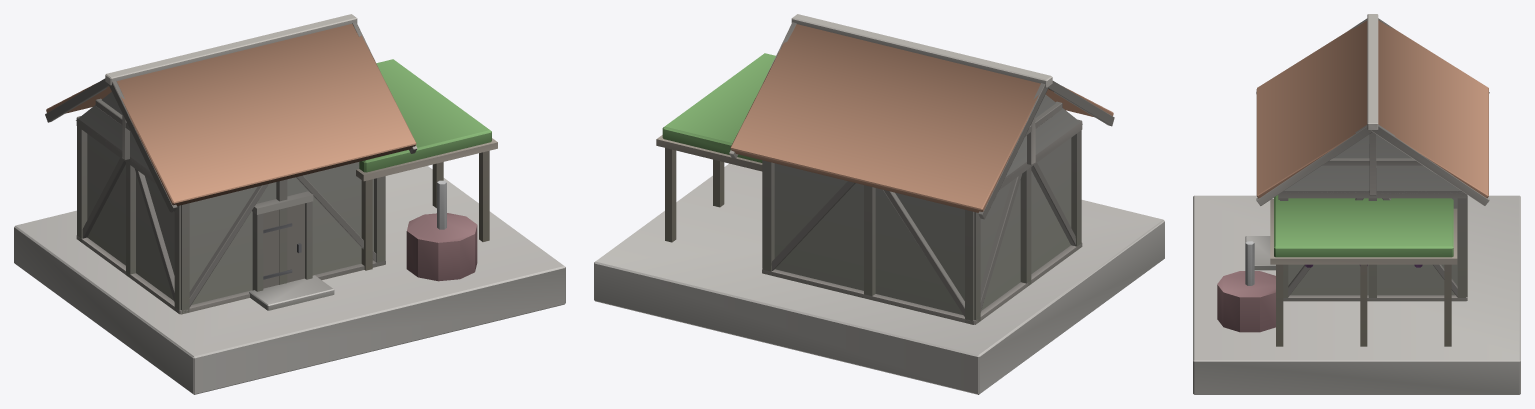
The model's file is vineyard_l1_lod1.glb.
3 renders of one model, left to right at view 1: azimuth 30°, elevation 25°; view 2: azimuth 150°, elevation 25°; view 3: azimuth 270°, elevation 25°, orthographic. The views are drawn at different scales.
Parts seen in each view (by area): view 1: vineyard_l1_lod1; view 2: vineyard_l1_lod1; view 3: vineyard_l1_lod1.
Boxes of the visible parts, x1,y1,x2,y2 form: vineyard_l1_lod1: (14,14,565,394); vineyard_l1_lod1: (594,14,1164,394); vineyard_l1_lod1: (1193,14,1520,394).
Size of the model in its own units: 8.6 by 5.38 by 7.2.
